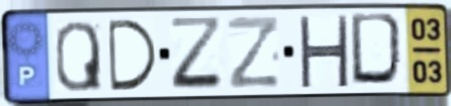D: (348, 11, 410, 90), (104, 17, 161, 94)
H: (296, 14, 351, 90)
Q: (53, 19, 105, 94)
Z: (167, 15, 227, 92), (225, 15, 283, 93)
